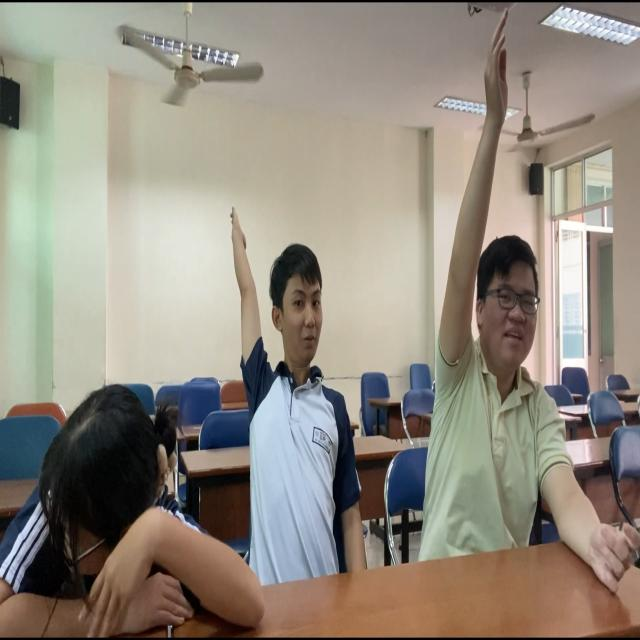raise_hand: (438, 7, 573, 633), (229, 200, 347, 615)
sleep: (1, 388, 267, 640)
